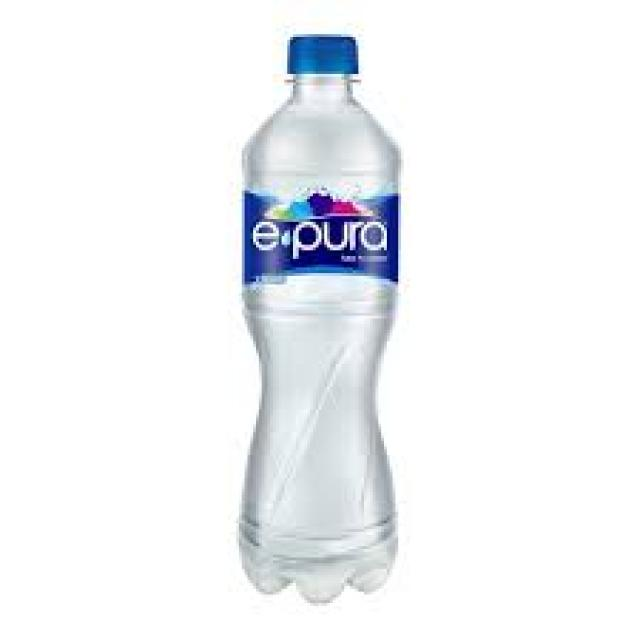Botella: (231, 24, 405, 595)
